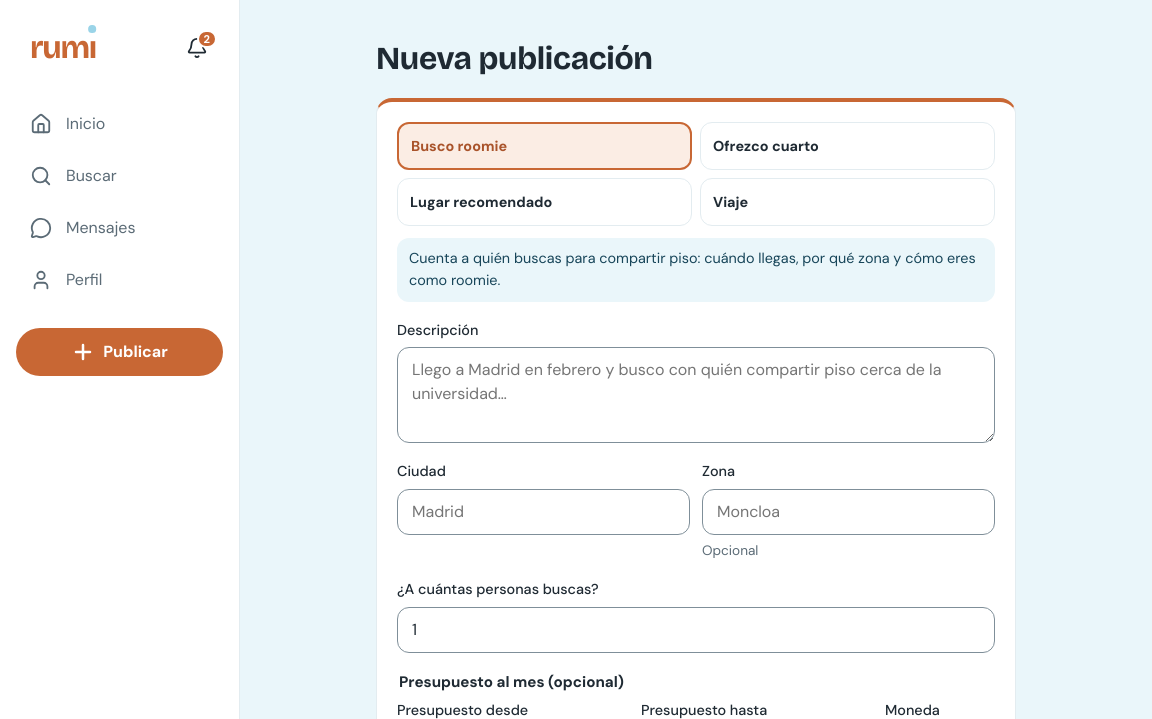
Test: cada tipo muestra su descripción y sus campos
Click the radio button labelled "Lugar recomendado" at {"x": 544, "y": 202}, box [397,178,692,226]
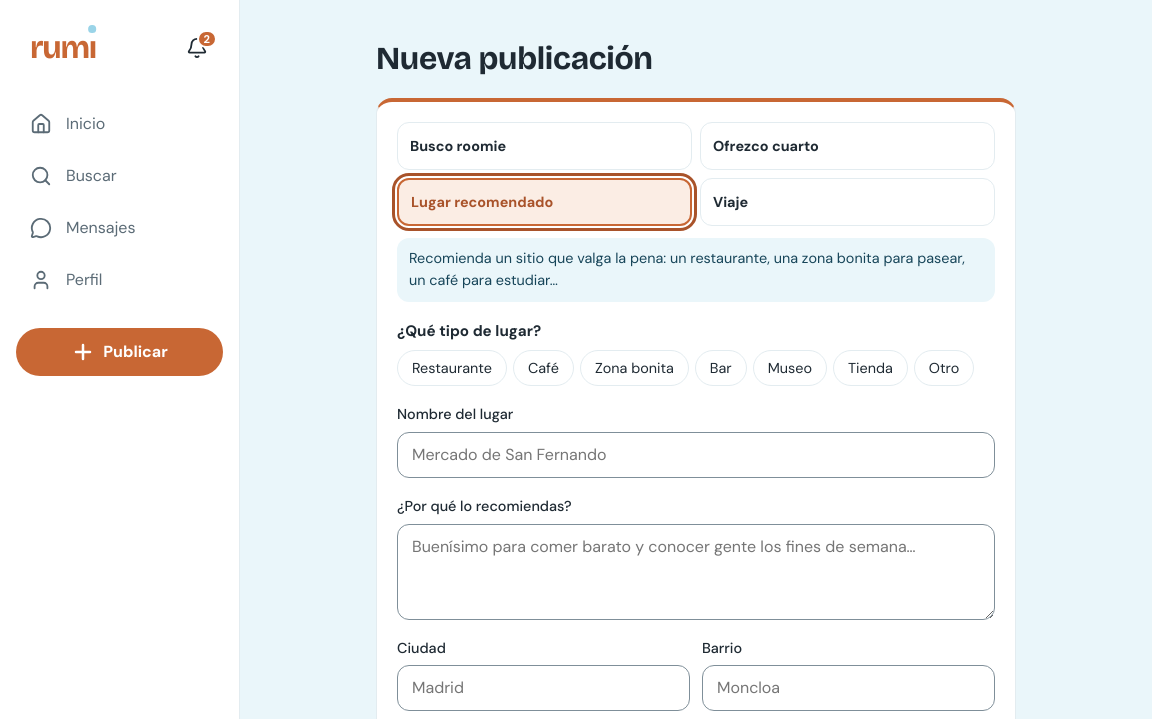
Check: the text box labelled "¿Por qué lo recomiendas?" is shown, box [397,524,995,620]
Check: the text "Recomienda un sitio que valga la pena" is shown, box [409,249,965,289]
Check: the field labelled "Nombre del lugar" is shown, box [397,432,995,478]
Click the radio button labelled "Busco roomie" at {"x": 458, "y": 146}, box [397,122,692,170]
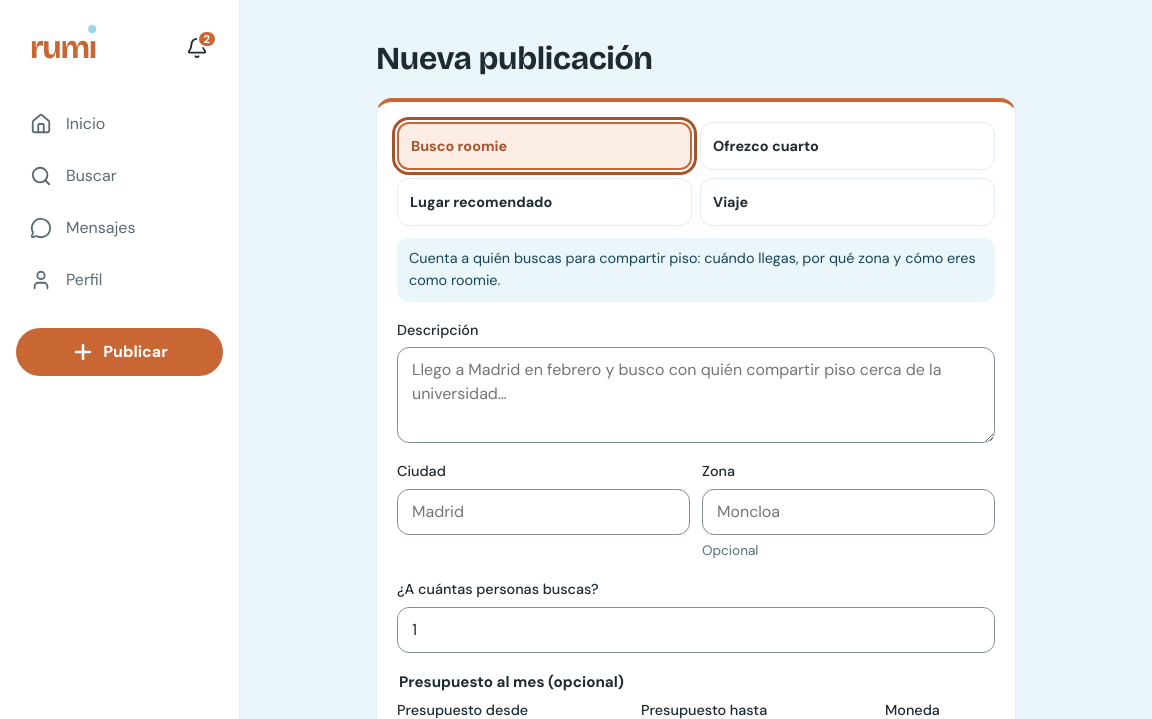
Check: the number field labelled "¿A cuántas personas buscas?" holds "1", box [397,607,995,653]
Click the radio button labelled "Viaje" at {"x": 731, "y": 202}, box [700,178,995,226]
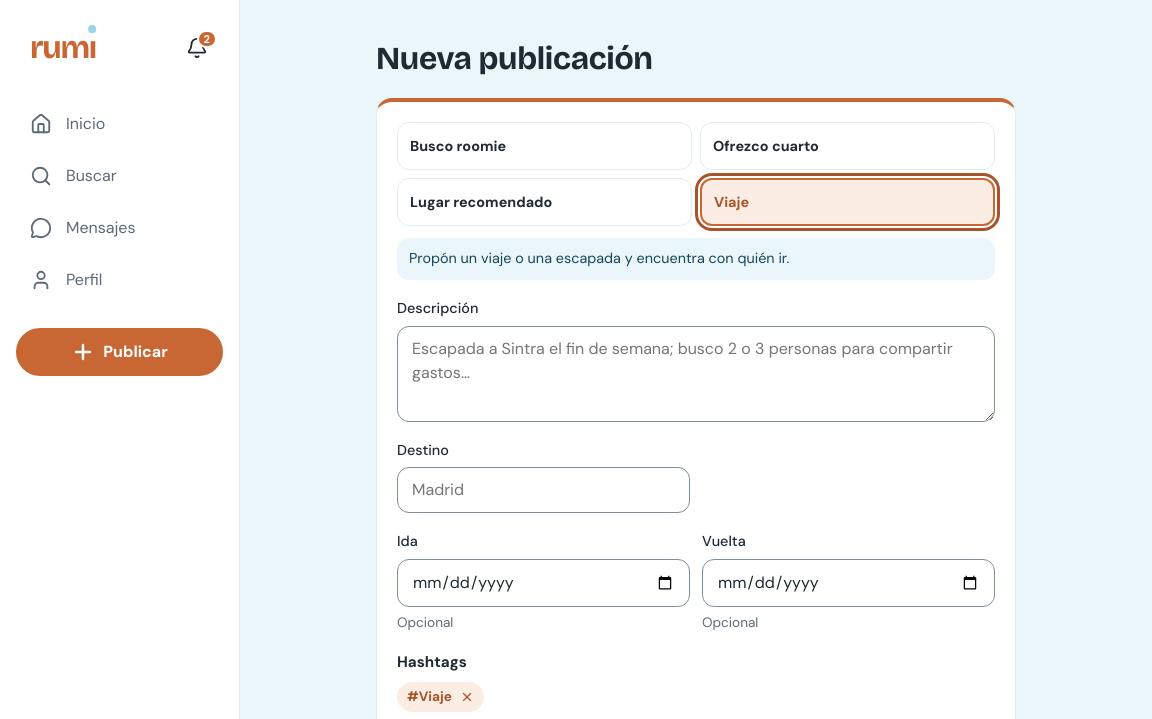
Check: the field labelled "Destino" is shown, box [397,467,690,513]
Check: the label labelled "¿A cuántas personas buscas?" is gone
